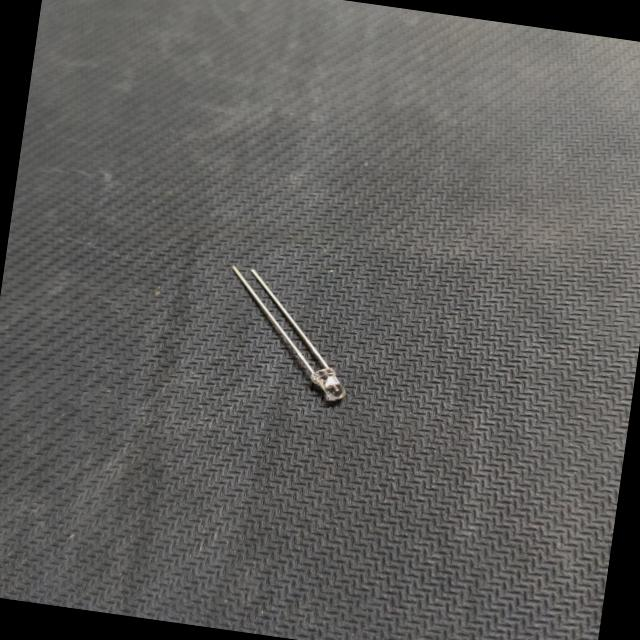led: (206, 255, 374, 412)
